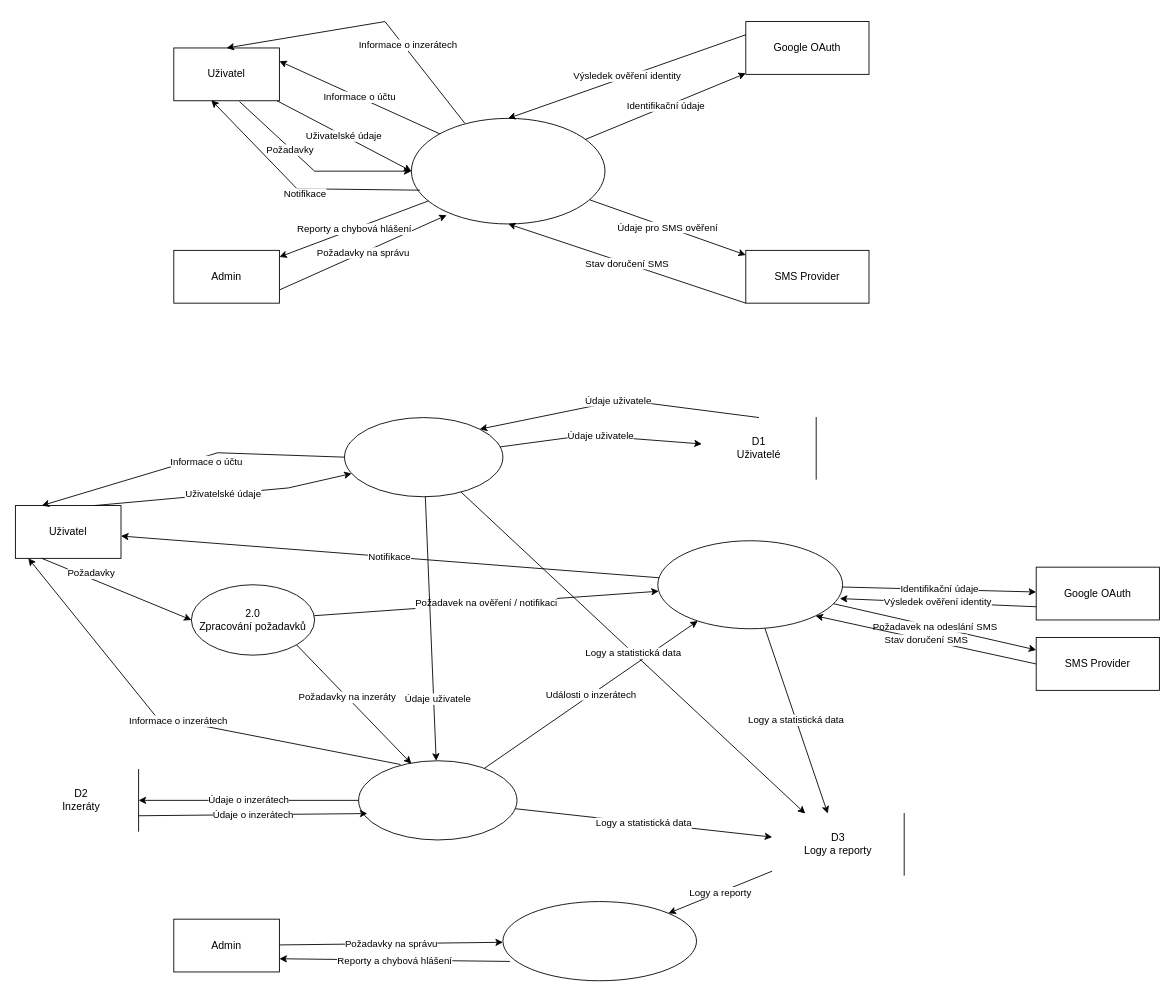
Some shapes in this 1175 by 996 pixel diagram are drawn without their labels. Here are the shapes that lost their labels. From the top down, the centre of each, then its label:
pixel 508 170: 0 Village Marketplace IS
pixel 423 457: 1.0 Správa uživatelů
pixel 750 584: 4.0 Ověření a notifikace
pixel 437 800: 3.0 Správa inzerátů
pixel 599 941: 5.0 Administrace a reporting
